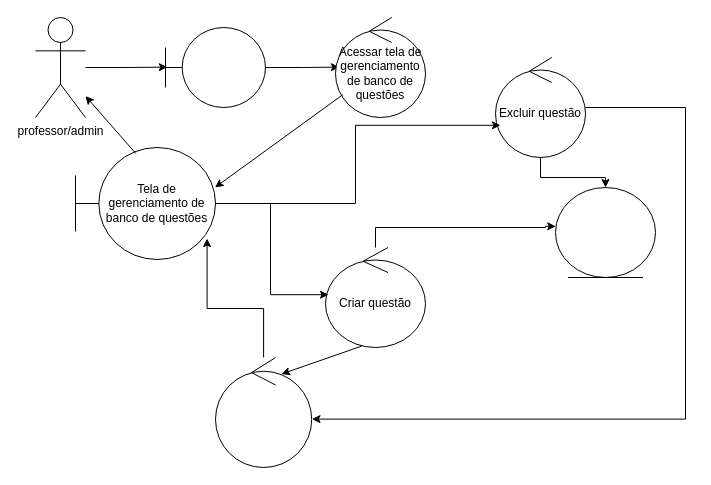
The diagram is 711 pixels wide and 485 high, and some of its shapes have lost their labels. The shapes that lost their labels are listed below. From the top down, each one's centre as x and y in pixels, then its label:
At point 215,67: "Tela principal".
At point 605,232: "Banco de questões".
At point 263,412: "Mensagem de alteração feita com sucesso".
